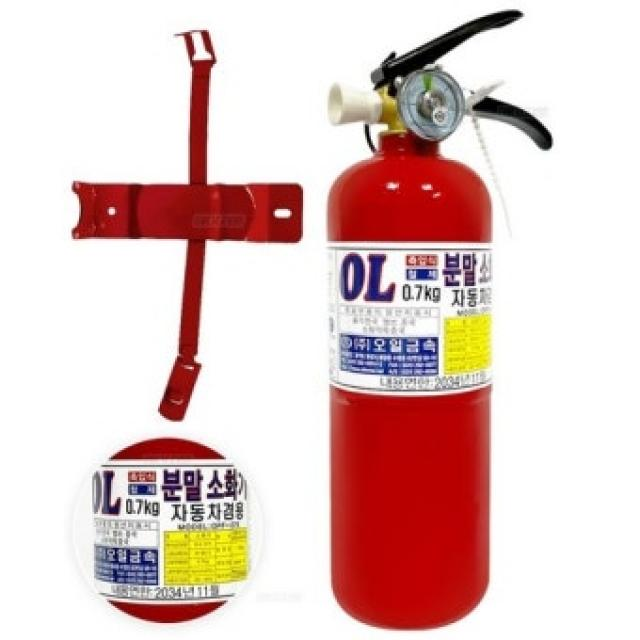pressure gauge: (399, 70, 463, 139)
